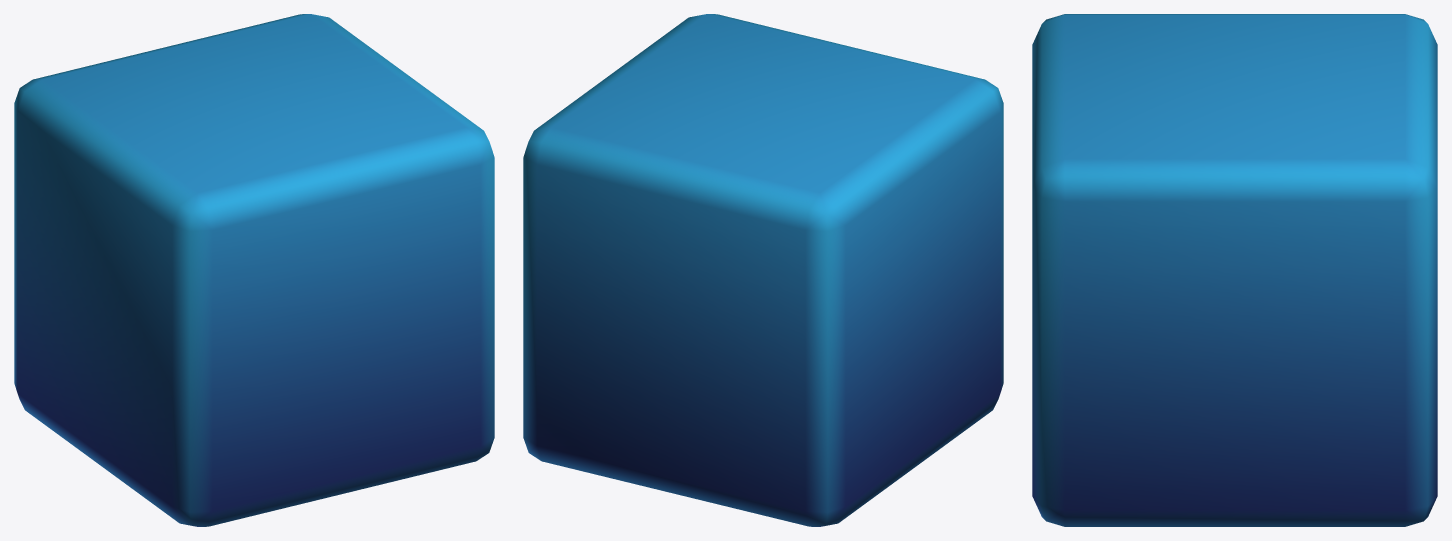
Rendered from cube_blue.glb.
The picture shows the model from 3 angles, left to right: view 1: azimuth 30°, elevation 25°; view 2: azimuth 150°, elevation 25°; view 3: azimuth 270°, elevation 25°; orthographic projection. The views are drawn at different scales.
Visible parts, largest first — view 1: cube_blue; view 2: cube_blue; view 3: cube_blue.
Part boxes in pixels (x1,y1,x2,y2): cube_blue: (14, 14, 494, 526); cube_blue: (523, 14, 1003, 526); cube_blue: (1032, 14, 1437, 526).
Size of the model in its own units: 0.5 by 0.5 by 0.5.
1 material, 1 textured.
